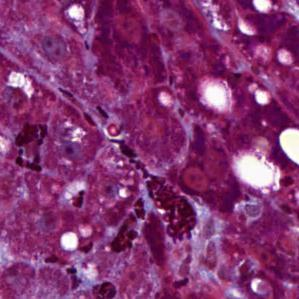inflammation: (12, 120, 49, 147), (89, 279, 123, 299)
